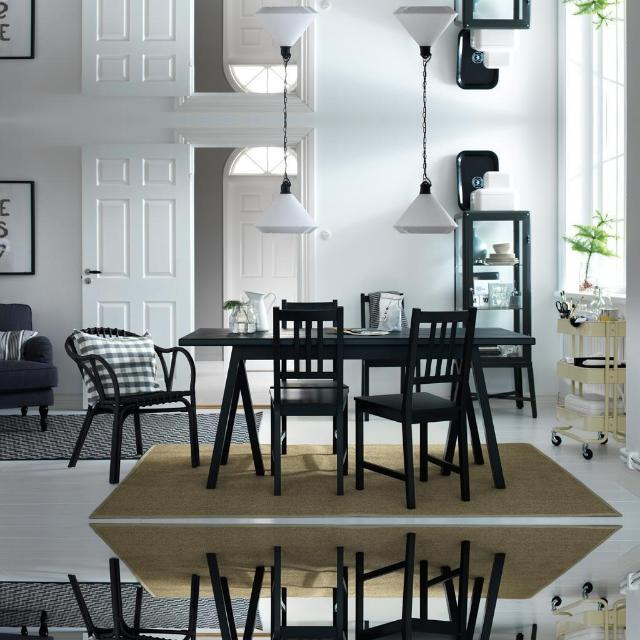obstacle: (62, 302, 542, 510), (62, 531, 542, 640), (546, 284, 626, 458), (0, 292, 62, 441), (546, 584, 626, 640), (0, 601, 62, 640)
